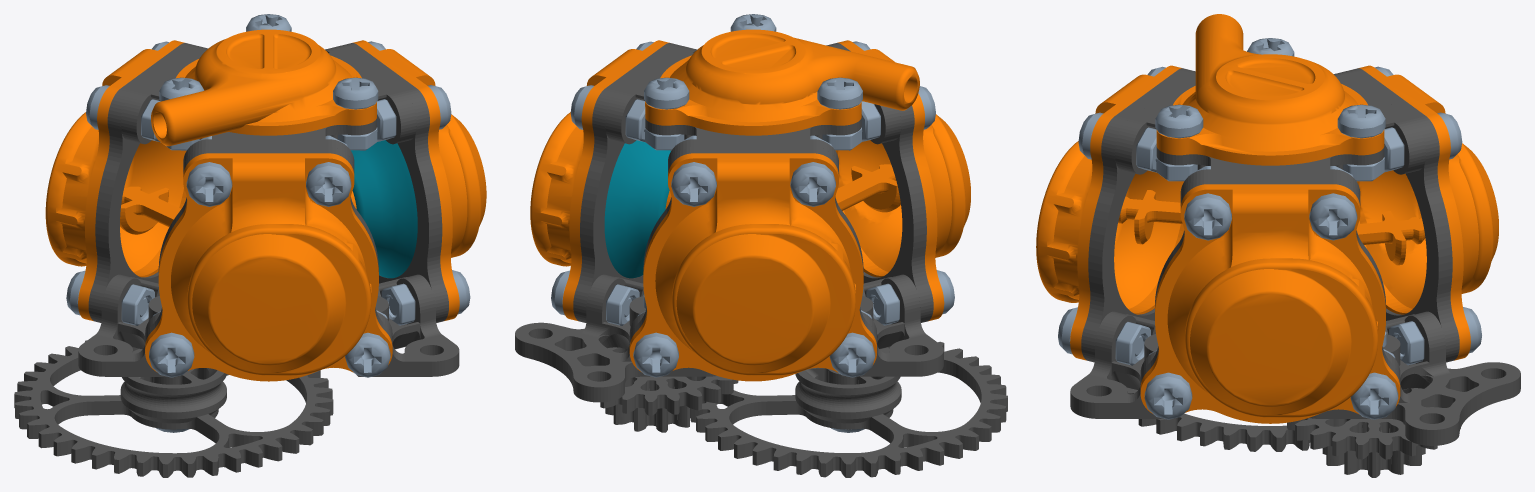
Rendered from machine-transformed.glb.
3 views of the same model, side by side, from view 1: azimuth 30°, elevation 25°; view 2: azimuth 150°, elevation 25°; view 3: azimuth 270°, elevation 25° (orthographic). The views are drawn at different scales.
Size of what is drawn, in the model's own units: 64.03 by 51.02 by 60.77.
